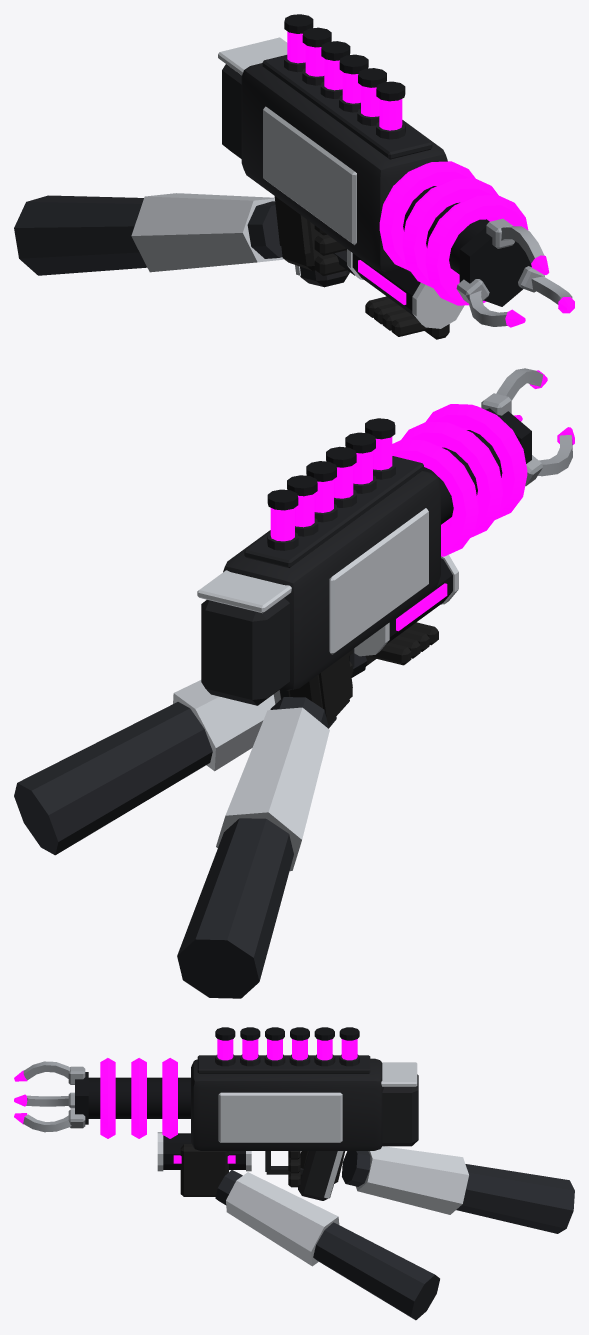
File: gun_arc_low.glb
3 views of the same model, one above another, from view 1: azimuth 30°, elevation 25°; view 2: azimuth 150°, elevation 25°; view 3: azimuth 270°, elevation 25° (orthographic). The views are drawn at different scales.
Parts seen in each view (by area): view 1: Body, Forearm_R, Armor_Plates, Gauntlet_R, Core, Coil_3, Coil_2, Coil_1, Glove_R, Glove_L, Electrode_1, Electrode_3 (+8 smaller); view 2: Body, Forearm_L, Forearm_R, Armor_Plates, Gauntlet_R, Core, Gauntlet_L, Coil_1, Coil_2, Coil_3, Glove_R, Glove_L (+3 smaller); view 3: Body, Armor_Plates, Forearm_R, Forearm_L, Core, Gauntlet_R, Gauntlet_L, Glove_L, Coil_1, Coil_2, Coil_3, Electrode_2 (+3 smaller).
Part boxes in pixels (left/top/right/bottom): Body: left=222, top=55, right=447, bottom=287; Forearm_R: left=14, top=195, right=282, bottom=275; Armor_Plates: left=218, top=37, right=464, bottom=328; Gauntlet_R: left=131, top=193, right=283, bottom=272; Core: left=284, top=14, right=531, bottom=317; Coil_3: left=425, top=195, right=528, bottom=305; Coil_2: left=402, top=178, right=498, bottom=287; Coil_1: left=379, top=161, right=475, bottom=270; Glove_R: left=274, top=196, right=346, bottom=275; Glove_L: left=365, top=296, right=449, bottom=339; Electrode_1: left=486, top=218, right=544, bottom=263; Electrode_3: left=456, top=279, right=509, bottom=326; Body: left=201, top=456, right=440, bottom=728; Forearm_L: left=14, top=653, right=367, bottom=855; Forearm_R: left=177, top=697, right=328, bottom=998; Armor_Plates: left=197, top=508, right=458, bottom=703; Gauntlet_R: left=216, top=707, right=329, bottom=871; Core: left=267, top=408, right=531, bottom=643; Gauntlet_L: left=173, top=680, right=275, bottom=771; Coil_1: left=392, top=439, right=478, bottom=556; Coil_2: left=401, top=421, right=502, bottom=537; Coil_3: left=426, top=404, right=527, bottom=519; Glove_R: left=288, top=649, right=352, bottom=724; Glove_L: left=365, top=622, right=438, bottom=666; Body: left=191, top=1054, right=418, bottom=1200; Armor_Plates: left=157, top=1062, right=417, bottom=1198; Forearm_R: left=342, top=1151, right=574, bottom=1233; Forearm_L: left=215, top=1170, right=439, bottom=1320; Core: left=75, top=1027, right=359, bottom=1169; Gauntlet_R: left=356, top=1146, right=468, bottom=1214; Gauntlet_L: left=226, top=1172, right=339, bottom=1266; Glove_L: left=180, top=1144, right=228, bottom=1196; Coil_1: left=162, top=1058, right=177, bottom=1138; Coil_2: left=131, top=1058, right=146, bottom=1138; Coil_3: left=100, top=1058, right=115, bottom=1138; Electrode_2: left=23, top=1109, right=85, bottom=1132.
Bounding box in the file's own units: 0.3788 × 0.3683 × 0.8124.
